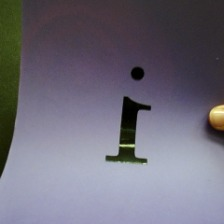violet1: (97, 64, 157, 167)
